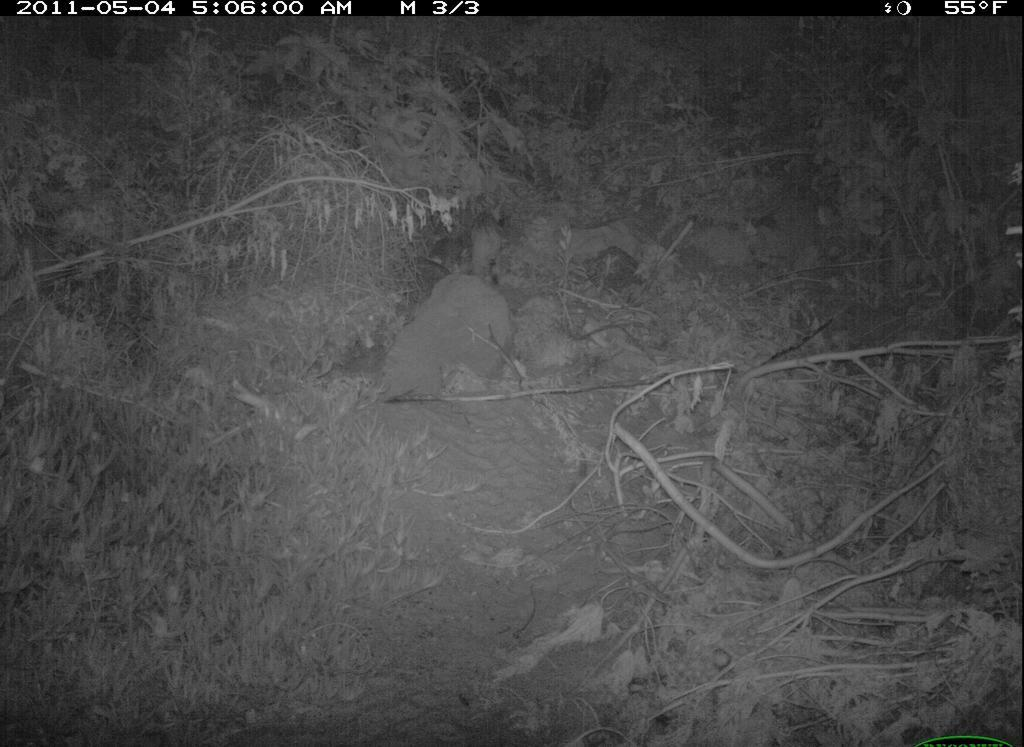bobcat: (464, 199, 511, 295)
